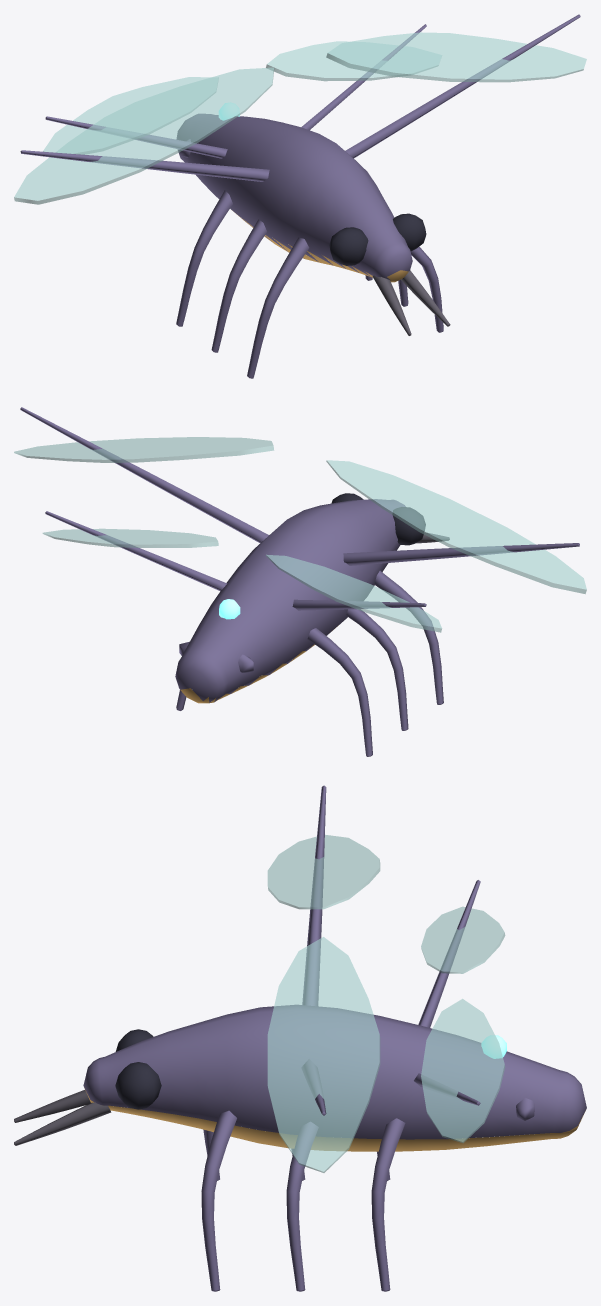
File: xeno-species-and-alien-creatures-winged-swarm-unit-e4b5aa50__21126.glb
3 views of the same model, one above another, from view 1: azimuth 30°, elevation 25°; view 2: azimuth 150°, elevation 25°; view 3: azimuth 270°, elevation 25° (orthographic). The views are drawn at different scales.
Visible parts, largest first — view 1: winged-swarm-unit; view 2: winged-swarm-unit; view 3: winged-swarm-unit.
Part boxes in pixels (x1,y1,x2,y2): winged-swarm-unit: (14,14,586,378); winged-swarm-unit: (14,407,586,756); winged-swarm-unit: (14,785,586,1291).
Size of the model in its own units: 1.03 by 0.4496 by 0.7413.
